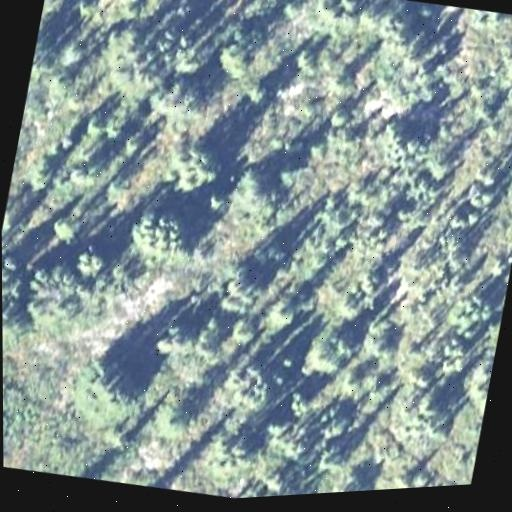tree-top: (121, 199, 198, 270), (167, 133, 229, 200), (72, 347, 132, 410), (300, 323, 351, 379), (149, 393, 198, 446), (165, 33, 213, 85), (221, 258, 268, 311), (231, 162, 278, 215), (456, 281, 502, 332), (213, 33, 254, 85), (220, 428, 263, 476), (245, 35, 287, 84), (260, 291, 304, 336), (419, 143, 459, 187), (22, 153, 62, 196), (67, 243, 108, 283), (464, 357, 494, 408), (330, 288, 366, 325), (31, 27, 58, 76), (375, 10, 410, 46), (237, 379, 271, 416), (55, 34, 88, 72), (1, 191, 25, 242), (226, 314, 260, 349), (49, 210, 83, 244), (167, 323, 196, 356), (308, 443, 342, 471), (482, 249, 510, 281), (479, 9, 512, 35), (466, 180, 495, 208), (497, 49, 512, 98), (2, 245, 24, 278), (417, 391, 440, 421), (334, 0, 365, 16), (104, 0, 143, 8)
